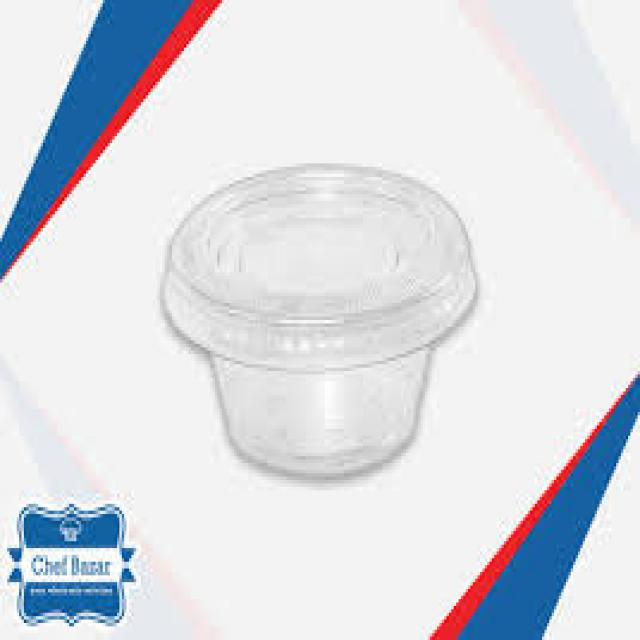disposable: (170, 160, 488, 490)
